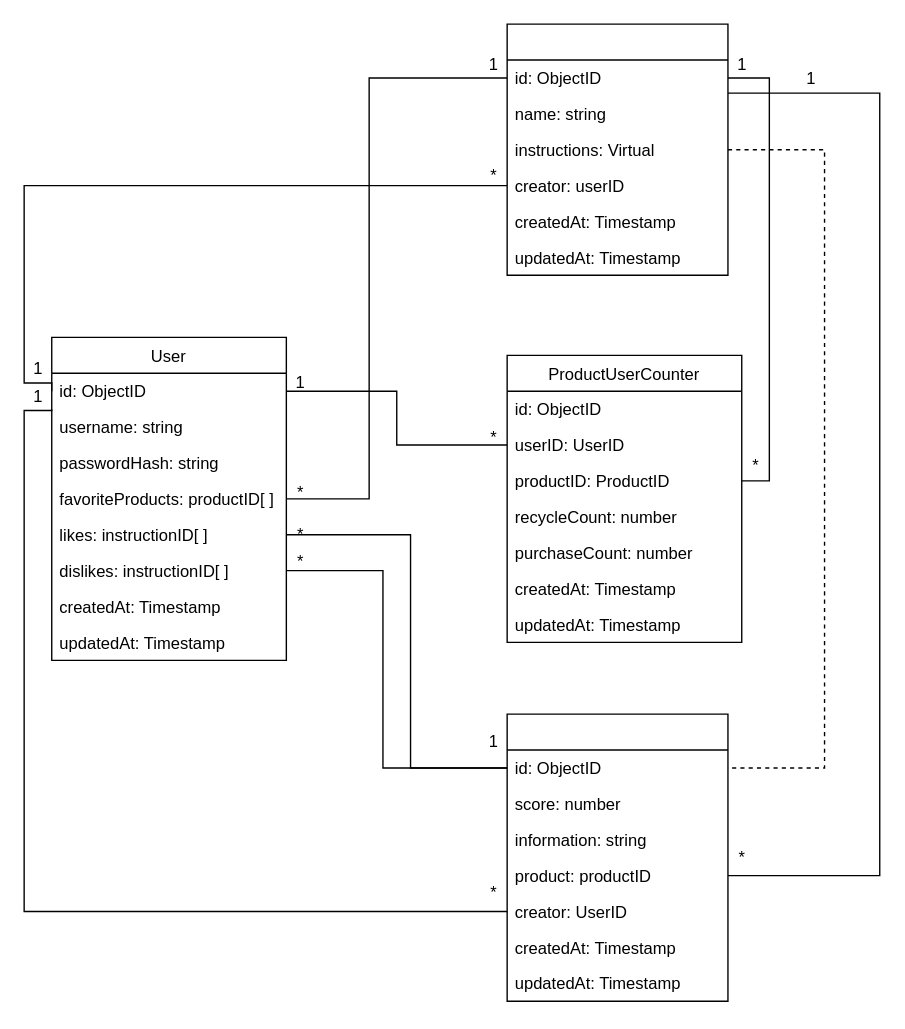
The diagram is 905 pixels wide and 1029 high, and some of its shapes have lost their labels. The shapes that lost their labels are listed below. From the top down, each one's box as (x1, y1, x2, y2) in pixels, then its label:
(506, 23, 728, 275): Product
(506, 713, 728, 1001): Instruction
